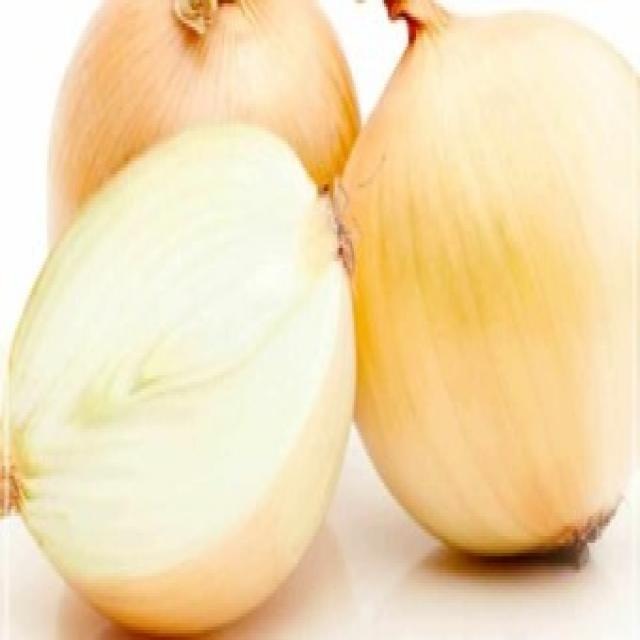Onion: (3, 124, 361, 638), (339, 2, 640, 558), (48, 0, 362, 244)
